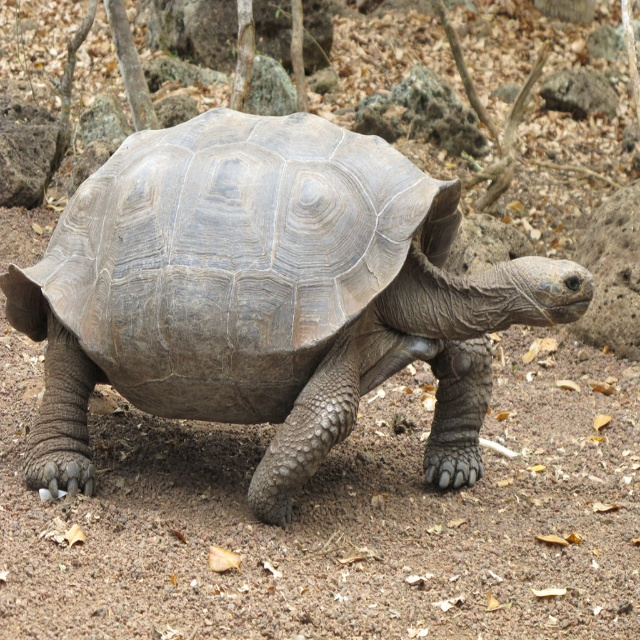Sea turtle: (0, 105, 592, 529)
